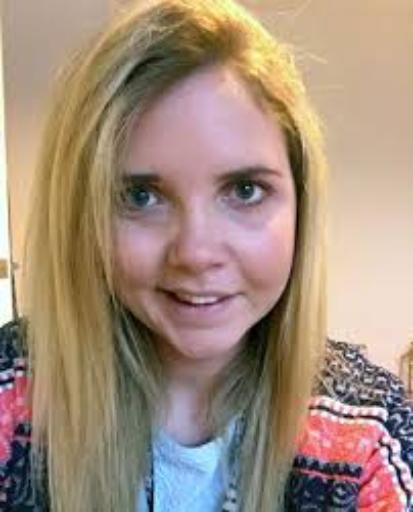left_eye: (217, 179, 277, 208)
left_lip_corner: (232, 286, 252, 305)
right_eye: (122, 189, 170, 212)
right_lip_corner: (152, 282, 175, 303)
